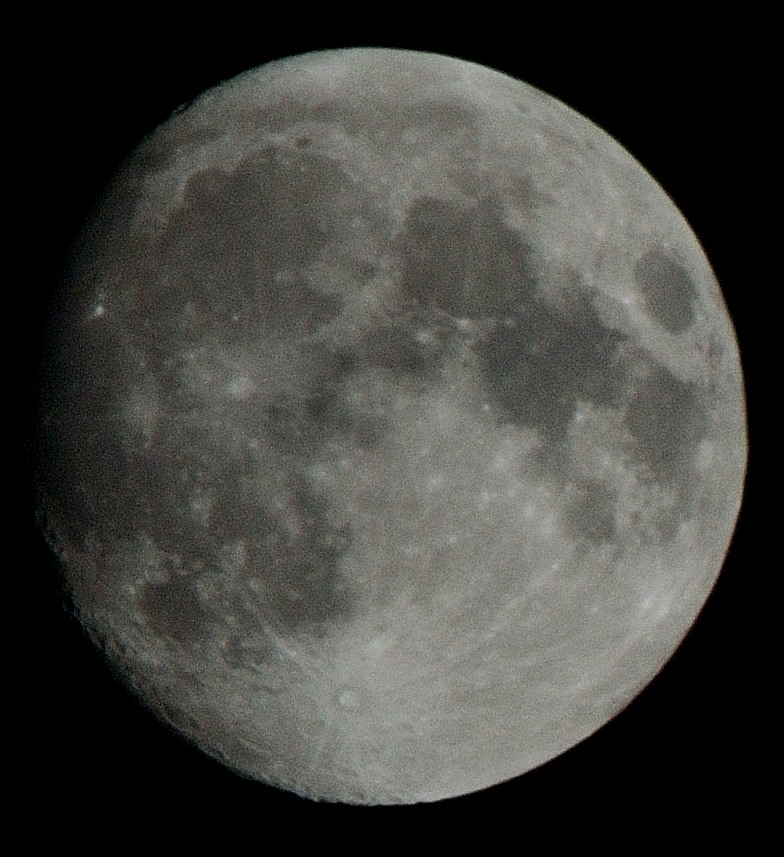crater: (620, 225, 706, 354), (310, 649, 386, 737), (216, 364, 273, 418), (118, 393, 166, 430), (469, 388, 499, 426), (288, 128, 317, 159)
